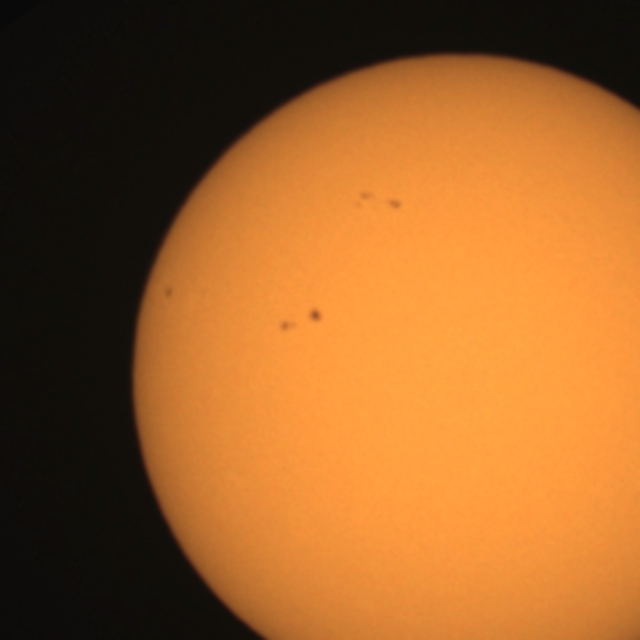sunspot: (306, 306, 326, 327), (277, 318, 297, 335), (384, 196, 404, 213), (162, 283, 175, 302)
